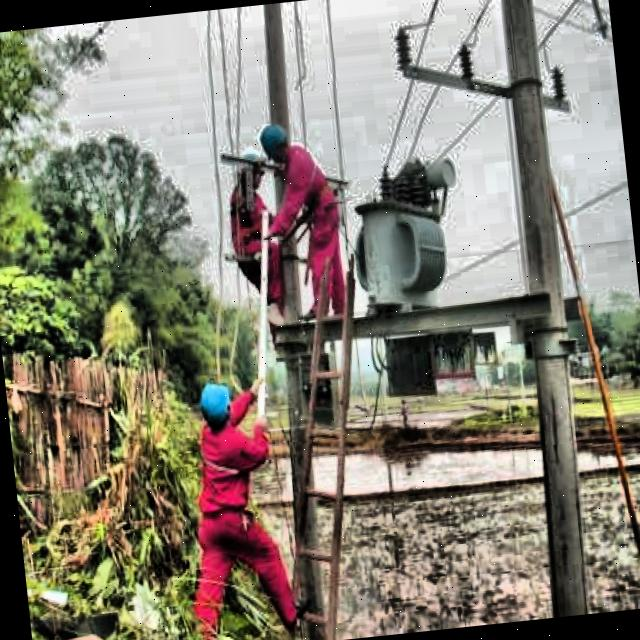helmet: (256, 115, 297, 173), (195, 376, 234, 430)
